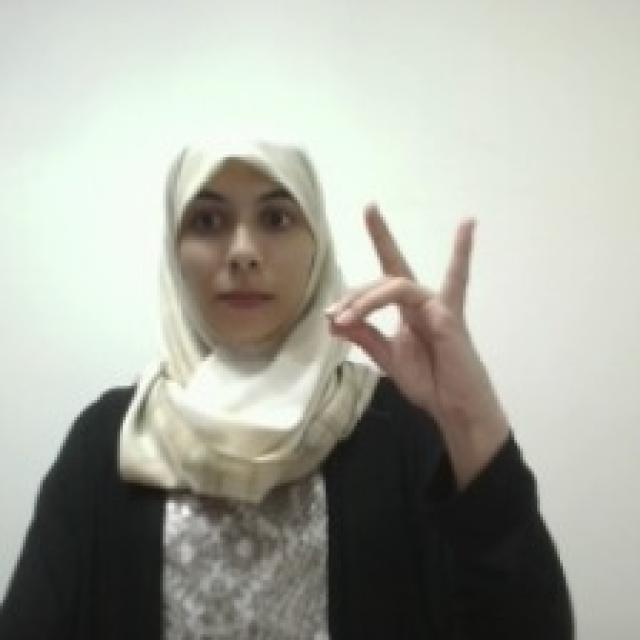Dog: (324, 198, 482, 408)
